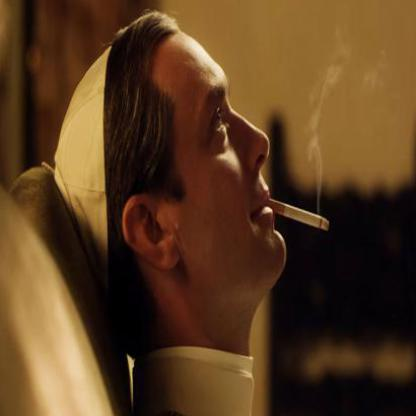cigarette: (269, 196, 330, 235)
person: (50, 6, 294, 415)
smoke: (307, 66, 327, 215)
